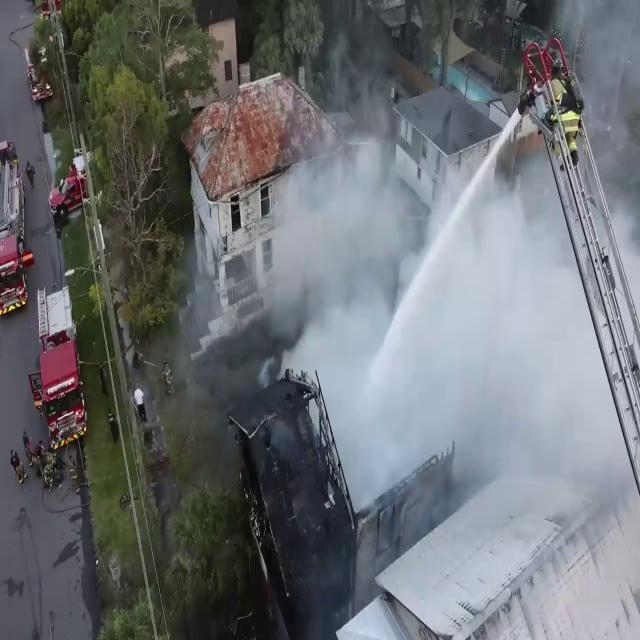Smoke: (338, 287, 505, 602)
